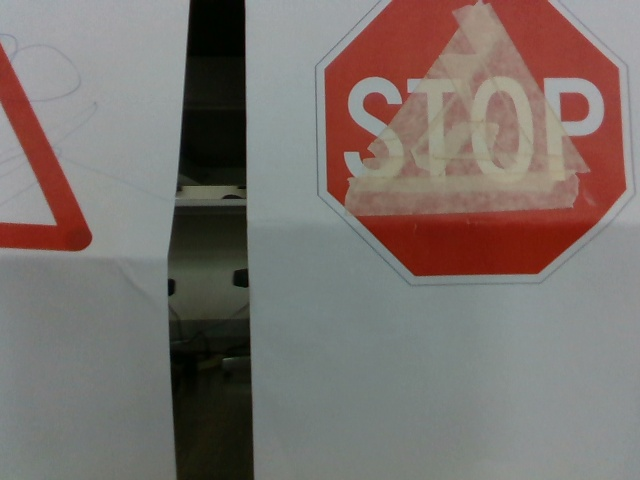stop: (315, 1, 636, 286)
